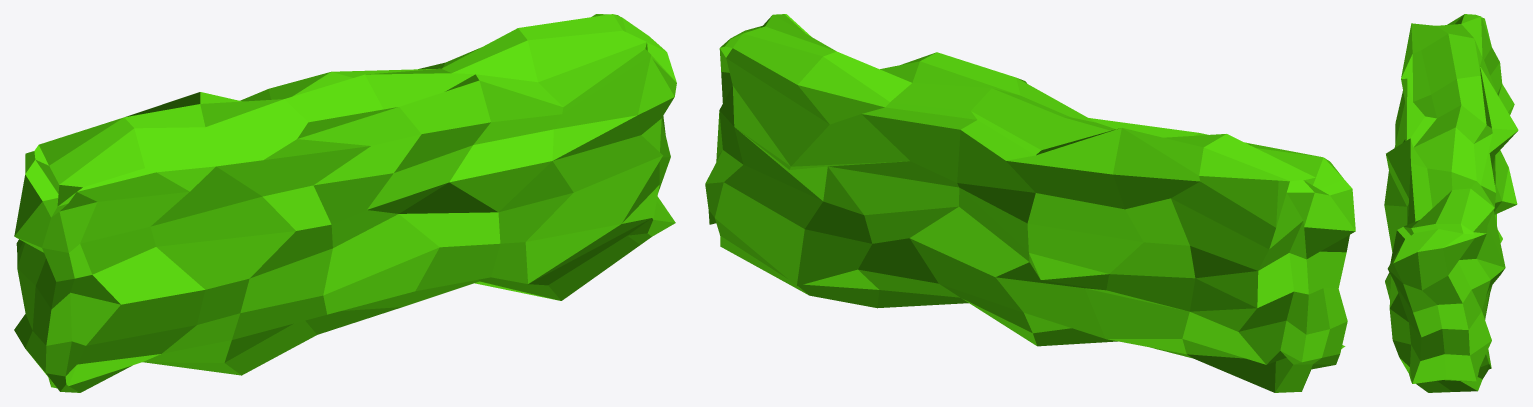
The model's file is Bush.FBX.
3 renders of one model, left to right at view 1: azimuth 30°, elevation 25°; view 2: azimuth 150°, elevation 25°; view 3: azimuth 270°, elevation 25°, orthographic. The views are drawn at different scales.
Parts seen in each view (by area): view 1: bush; view 2: bush; view 3: bush.
Part boxes in pixels (x1,y1,x2,y2): bush: [14, 14, 676, 392]; bush: [705, 14, 1355, 392]; bush: [1384, 14, 1518, 392].
Size of the model in its own units: 126 by 48.41 by 29.42.
